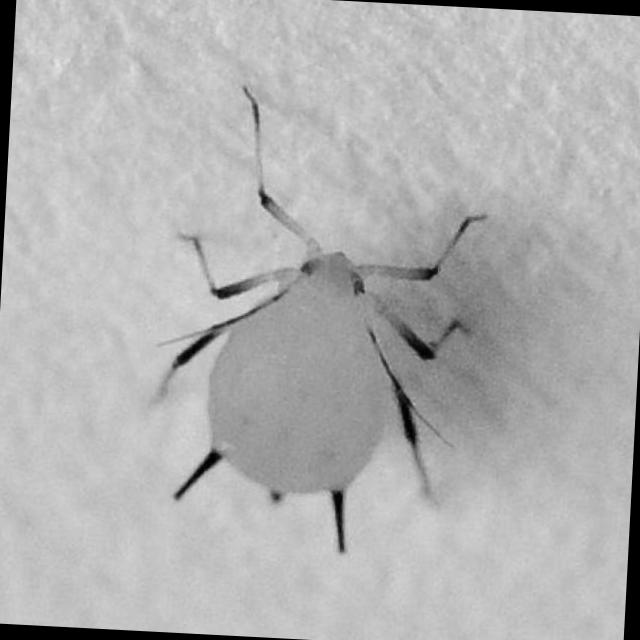Aphids: (115, 85, 531, 549)
